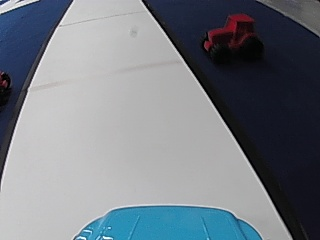tractor: (199, 12, 263, 64)
